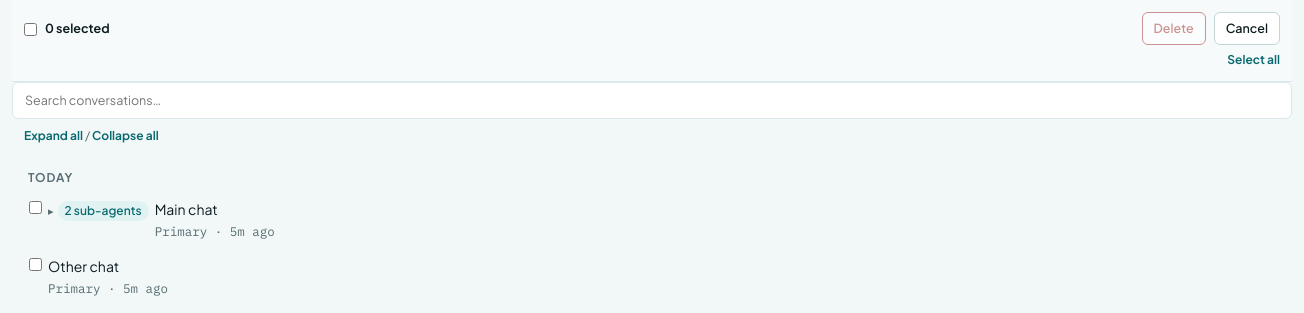
ConversationList select mode › Select all with a search only selects matches
This screenshot has width=1304, height=313.
In the search field labelled "Search conversations": (652, 100) x1=12 y1=82 x2=1292 y2=119, type "Other"
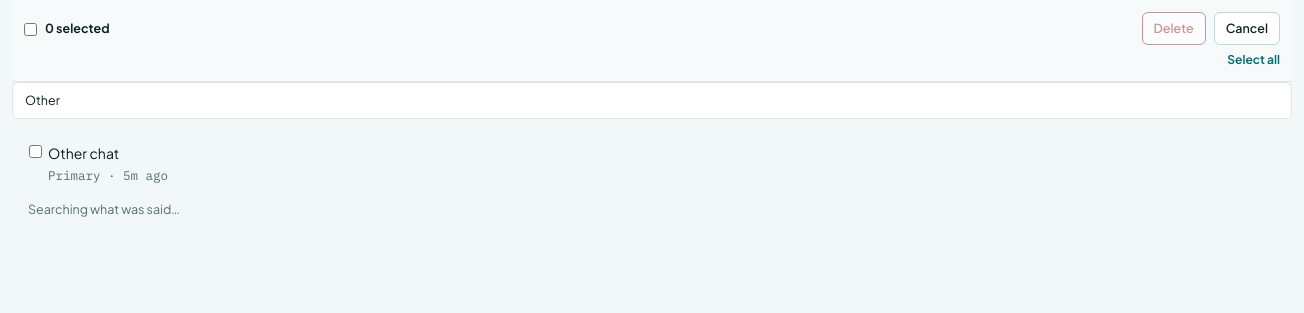
Expected: the button titled "Other chat" is shown, x1=29 y1=144 x2=168 y2=182
Expected: the button titled "Main chat" is gone
Click the button "Select all": (1254, 60) x1=1227 y1=51 x2=1280 y2=69
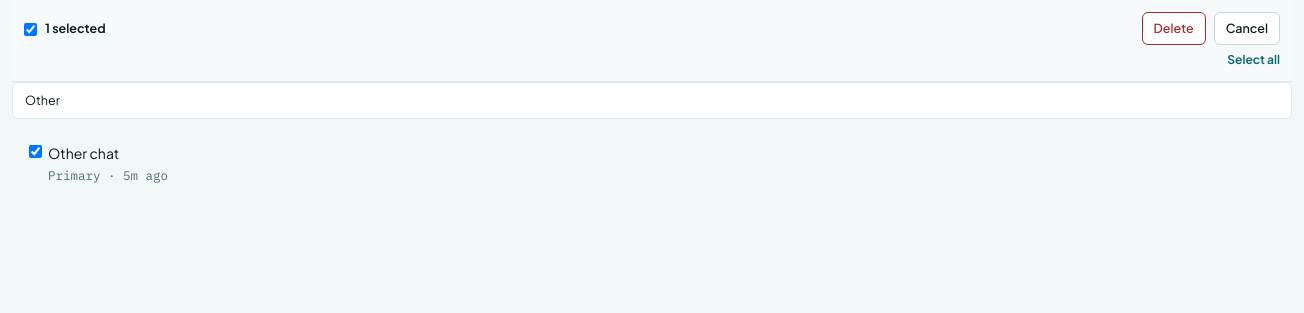
Expected: the text "1 selected" is shown, x1=45 y1=20 x2=106 y2=36
